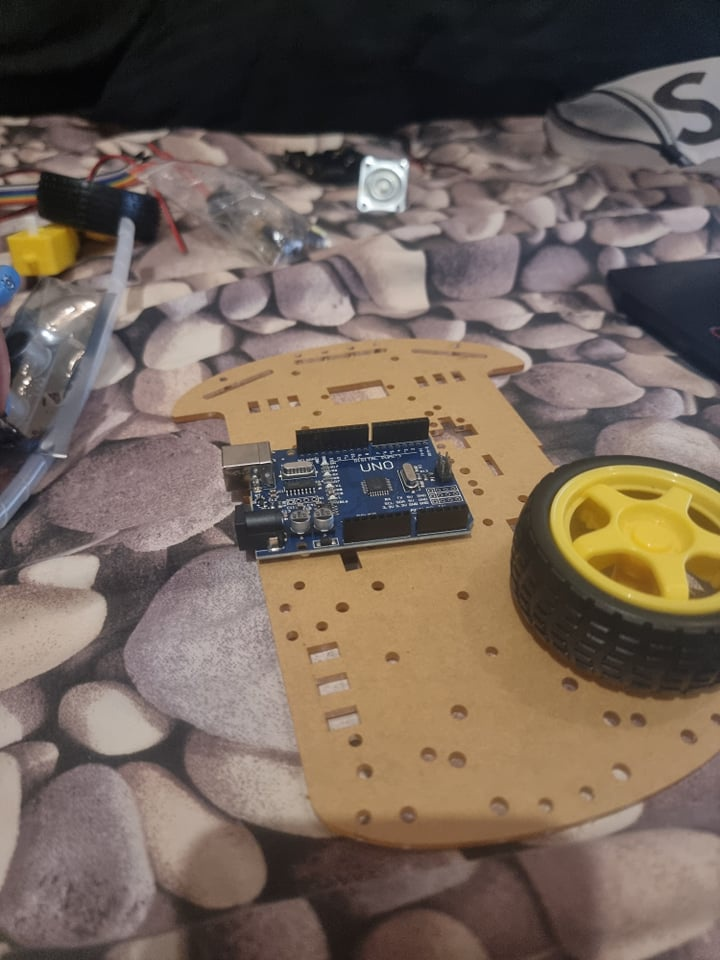5V EXPANSION: (220, 418, 480, 557)
BATTERY BOX: (280, 141, 361, 186)
